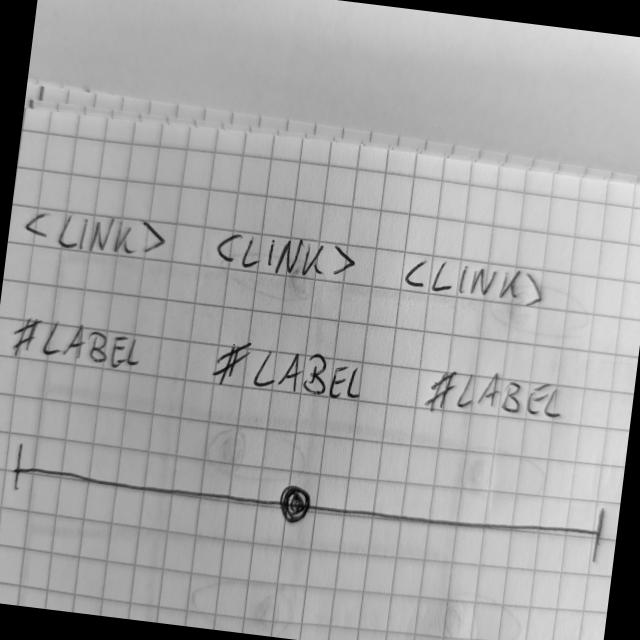label: (207, 333, 371, 409), (422, 361, 574, 432), (7, 308, 153, 376)
link: (21, 201, 172, 267), (399, 249, 552, 314), (211, 222, 363, 286)
slider: (12, 429, 613, 568)
